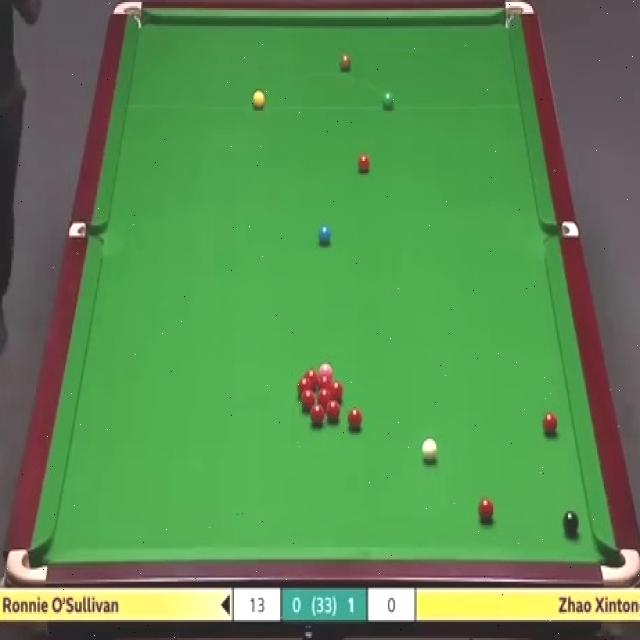black-ball: (563, 514, 581, 539)
blue-ball: (317, 224, 332, 247)
brown-ball: (339, 54, 352, 74)
green-ball: (381, 91, 396, 112)
pink-ball: (319, 364, 333, 374)
red-ball: (542, 414, 560, 439), (324, 399, 339, 423), (297, 379, 314, 400), (346, 409, 362, 431), (479, 498, 494, 521), (310, 399, 324, 421), (330, 382, 343, 401), (301, 393, 315, 410), (358, 155, 370, 174), (318, 387, 332, 402), (318, 373, 330, 390), (306, 370, 318, 385)
white-ball: (421, 440, 437, 462)
yellow-ball: (252, 90, 266, 110)
